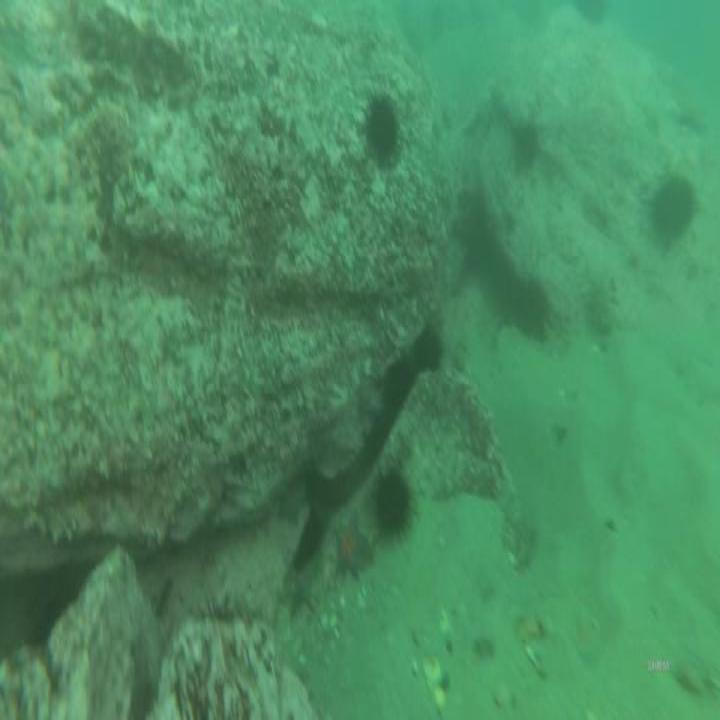echinus: (650, 163, 701, 250), (370, 455, 418, 544), (364, 85, 406, 167), (509, 112, 544, 171), (383, 356, 413, 416), (415, 325, 443, 379)
starfish: (329, 506, 374, 588)
